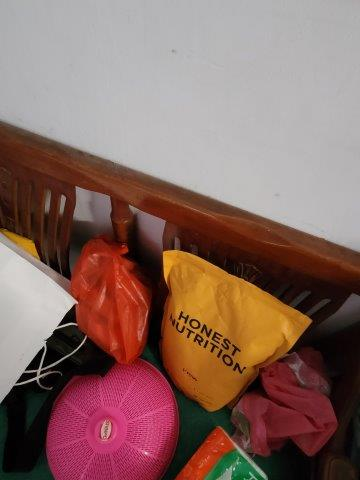plastik: (68, 237, 150, 364)
